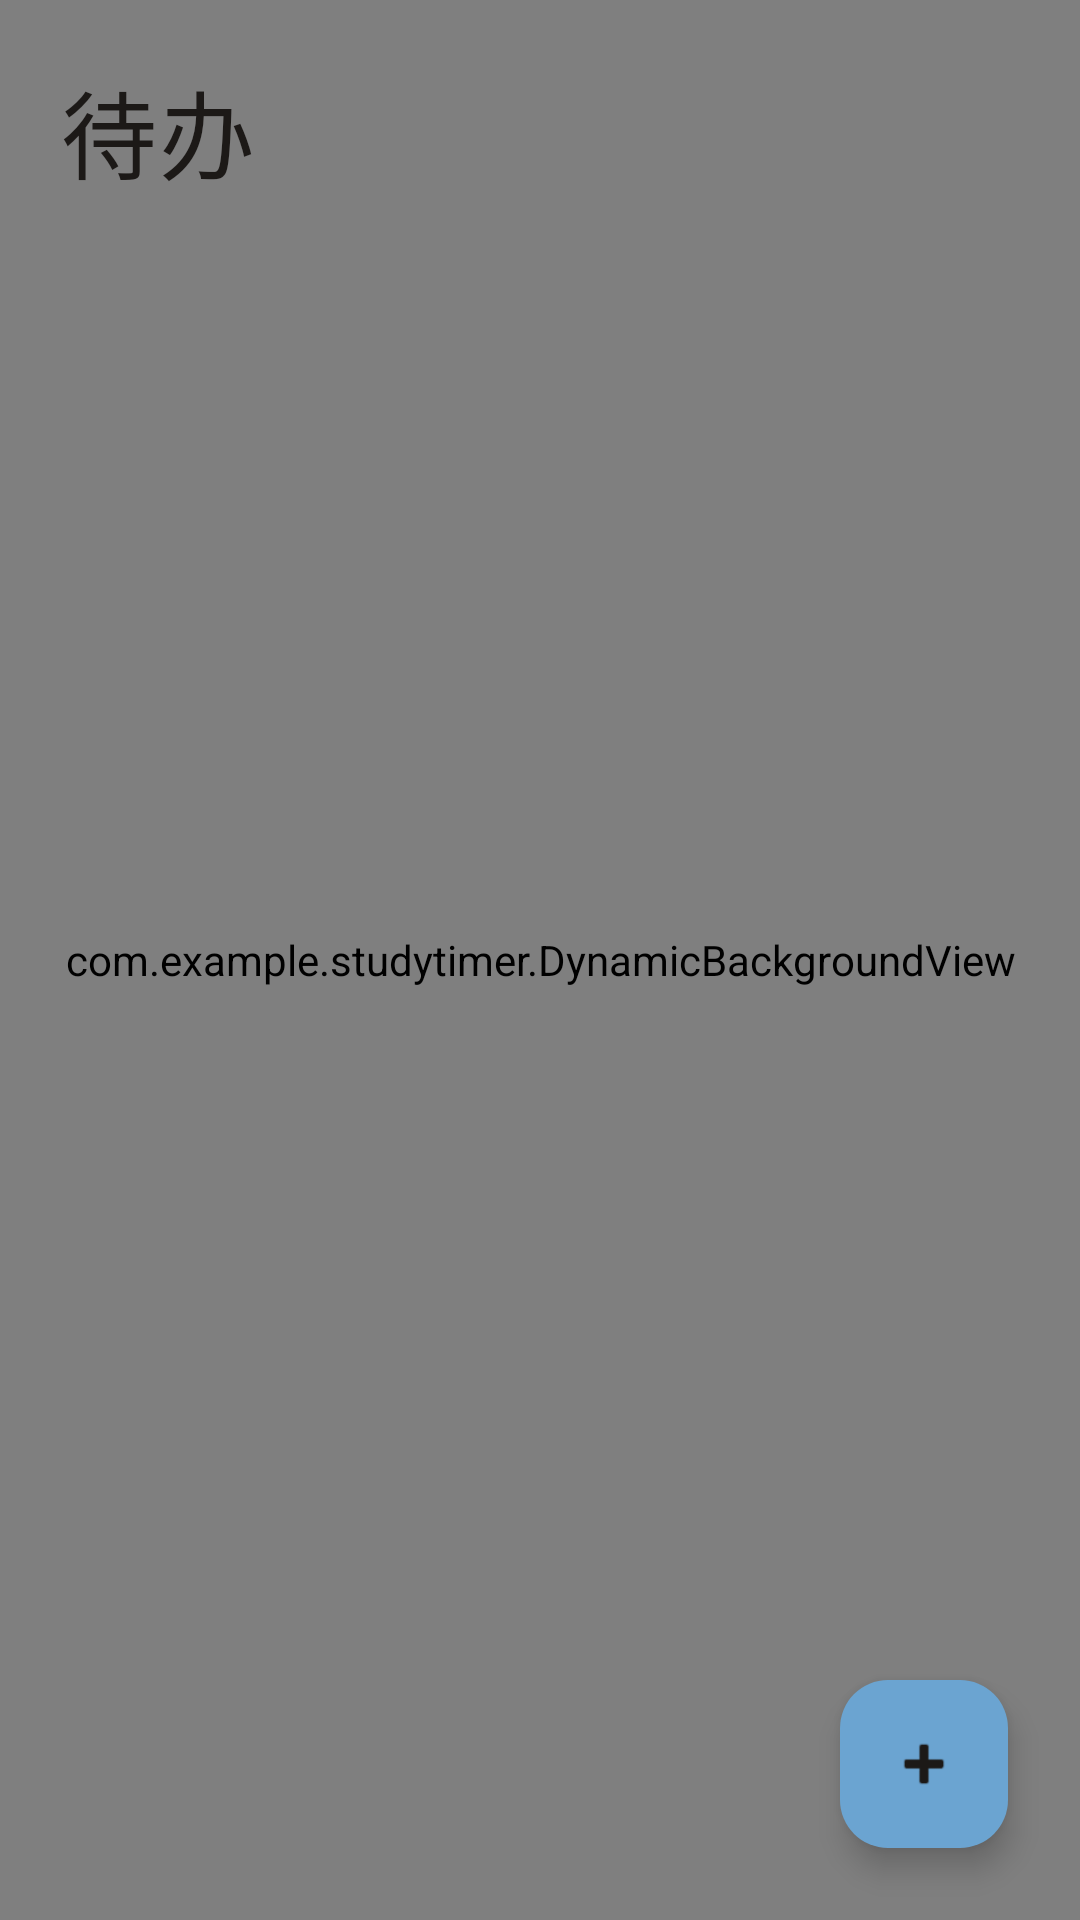

Named icons in this screenshot (1080px x 1920px) and their centers, (x=x, y=y):
添加待办: (x=924, y=1764)
